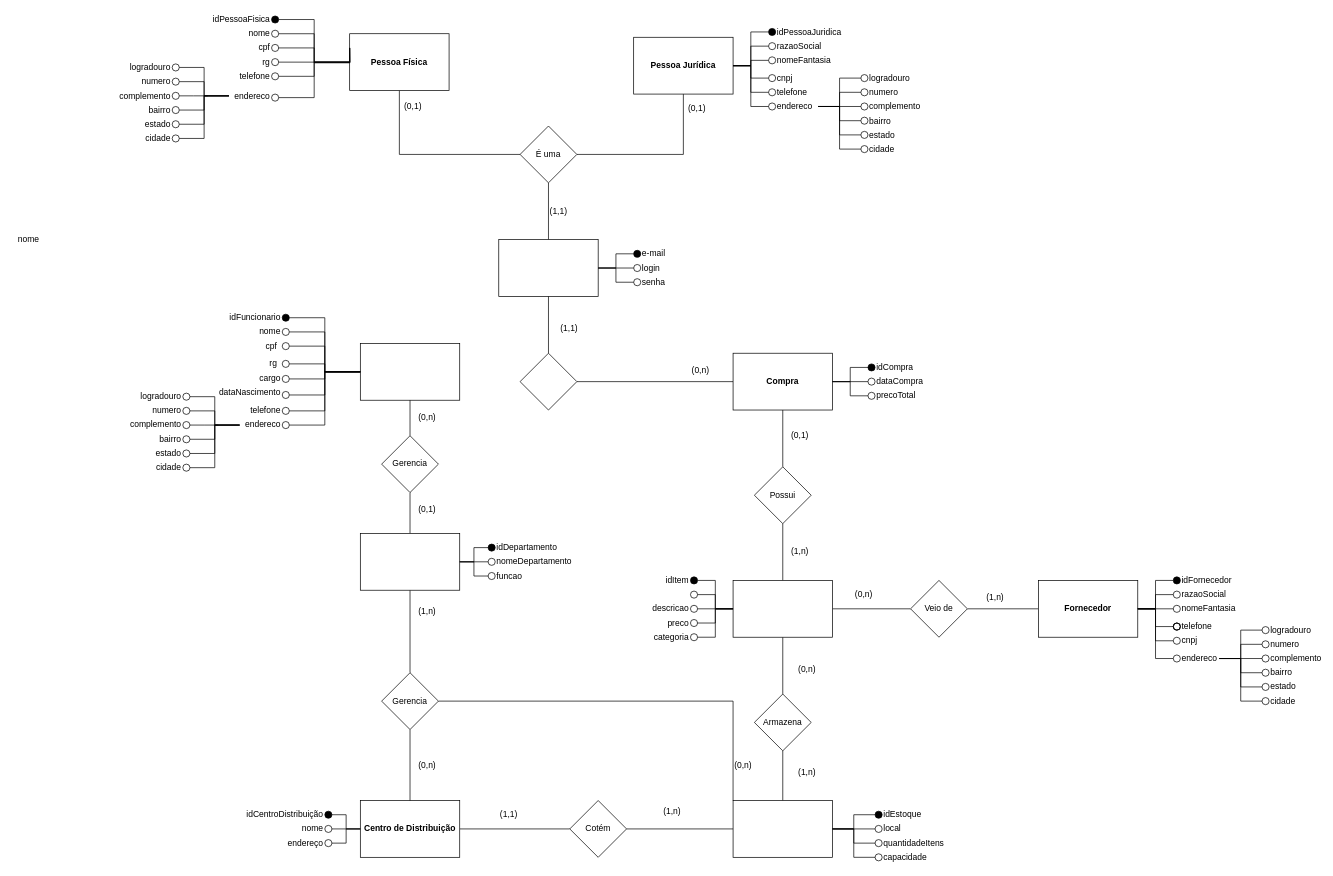
This 1333x876 diagram has some shape labels left out. Each missing label, with the centre of its shape:
"Departamento" belongs at (x=410, y=561).
"Estoque" belongs at (x=782, y=828).
"Funcionário" belongs at (x=410, y=371).
"Item" belongs at (x=782, y=608).
"Realiza" belongs at (x=548, y=381).
"Usuario" belongs at (x=548, y=267).
